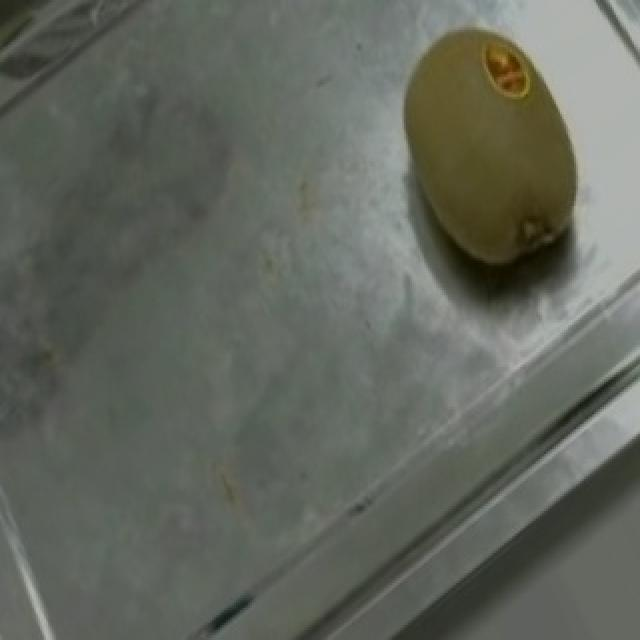Fruit: (358, 0, 626, 303)
